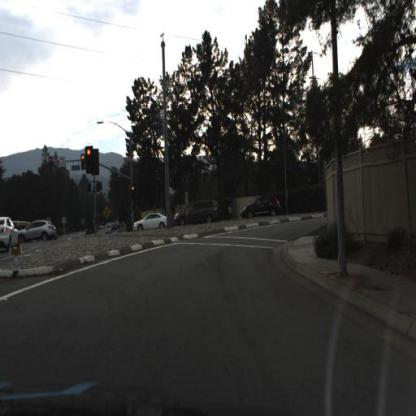car: (174, 201, 221, 228), (240, 190, 280, 221), (17, 219, 57, 245), (132, 211, 172, 233), (1, 216, 19, 254)
trafficLight: (49, 157, 54, 173)
trafficLight-Red: (87, 147, 92, 168), (131, 186, 136, 200)
